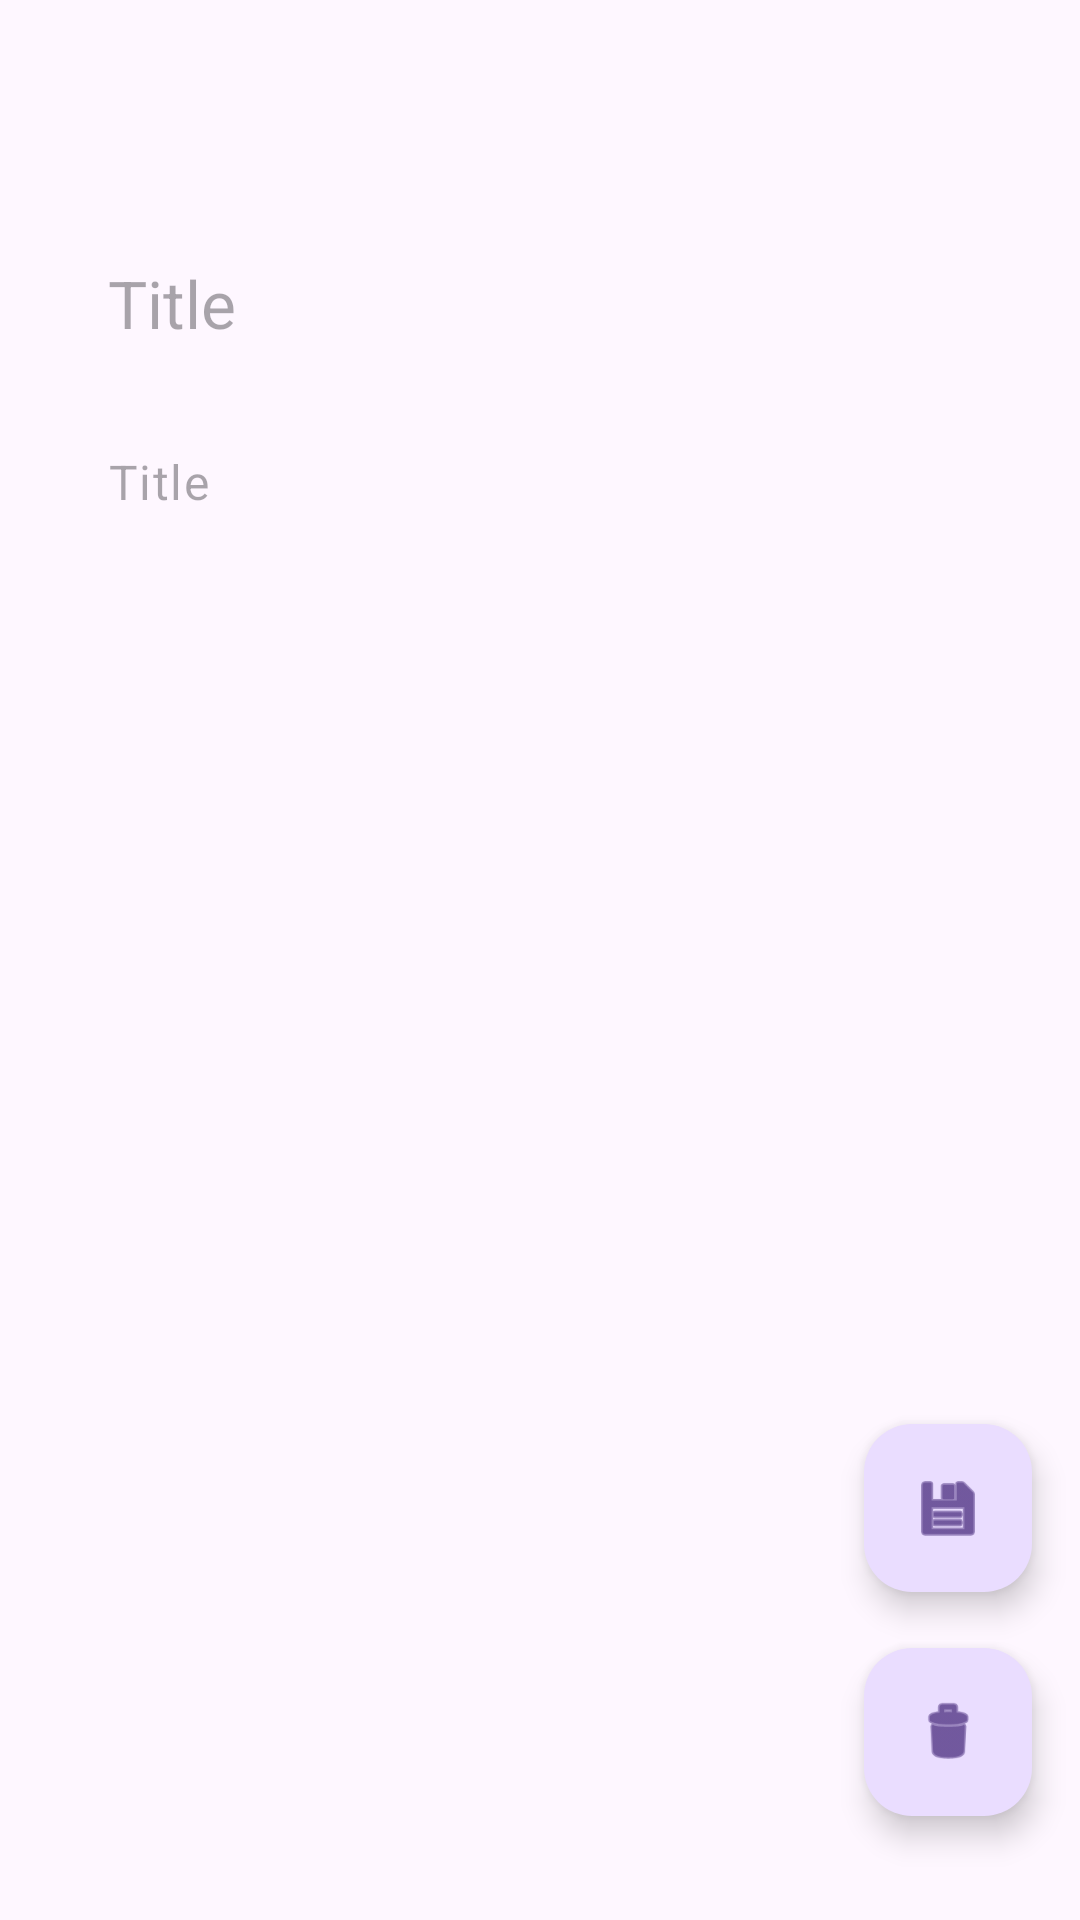

Icon click points for this 1080 × 1920 phone screenshot, format (x=x, y=y):
delete: (x=948, y=1732)
save: (x=948, y=1508)
